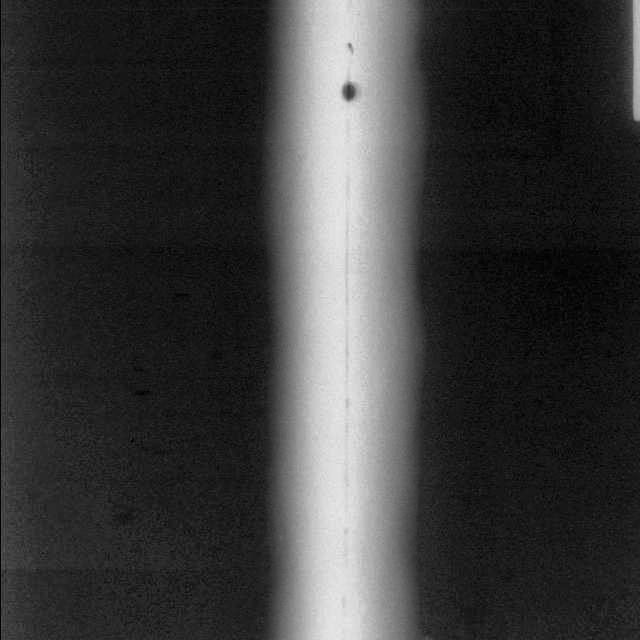LoP-LoF: (329, 1, 374, 631)
Pore: (335, 80, 364, 106)
